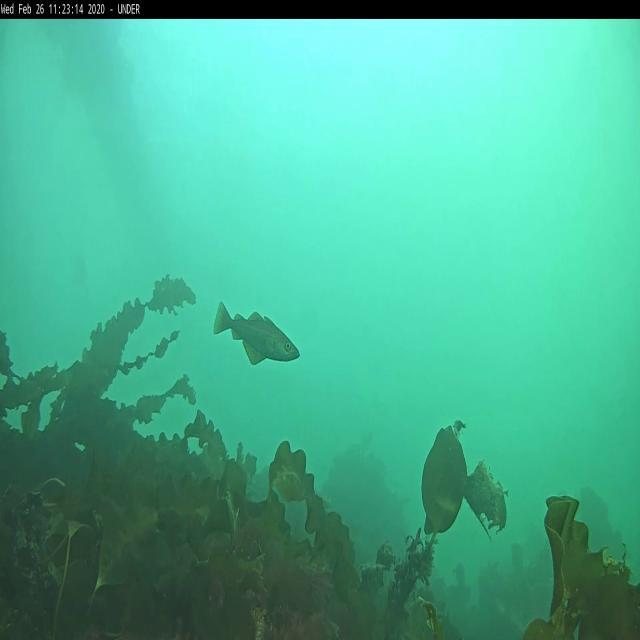fish: (216, 301, 300, 364)
